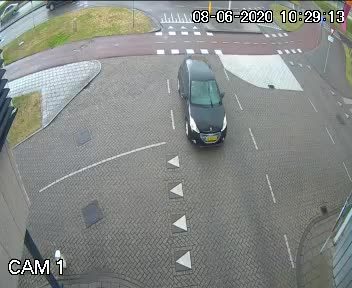car: (168, 53, 234, 156)
